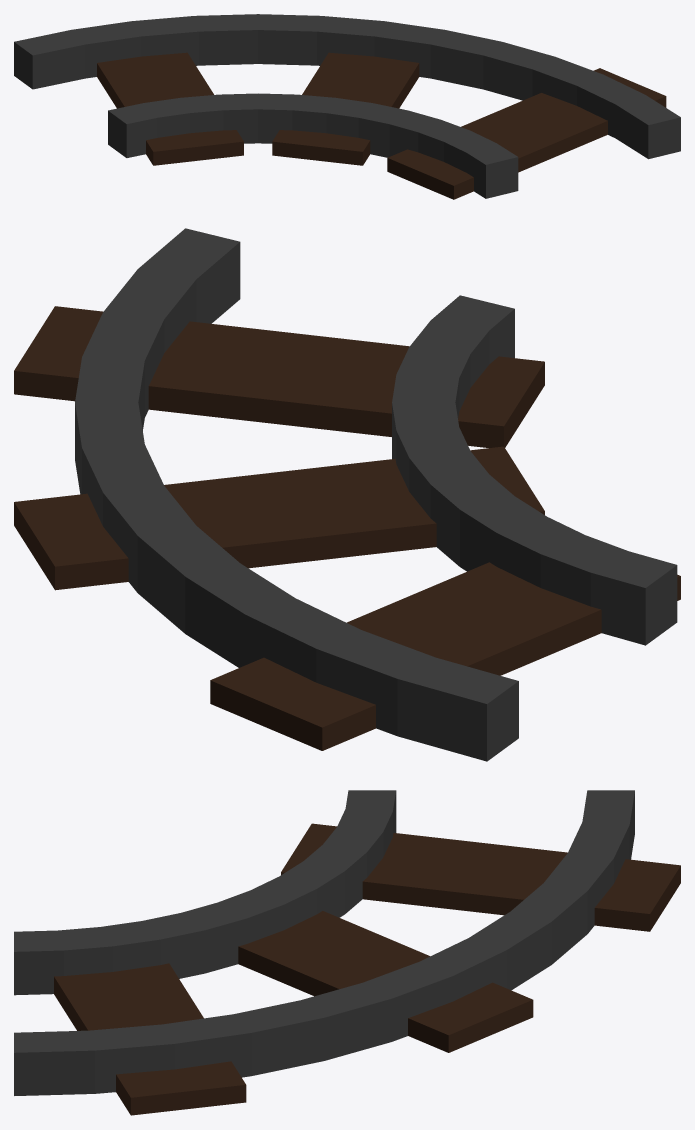
File: Cave_Lair_Rail_Road_Track_Corner_Small_01.fbx
3 views of the same model, one above another, from view 1: azimuth 30°, elevation 25°; view 2: azimuth 150°, elevation 25°; view 3: azimuth 270°, elevation 25° (orthographic). The views are drawn at different scales.
Visible parts, largest first — view 1: Cave_Lair_Rail_Road_Track_Corner_Small_01; view 2: Cave_Lair_Rail_Road_Track_Corner_Small_01; view 3: Cave_Lair_Rail_Road_Track_Corner_Small_01.
Part boxes in pixels (x1,y1,x2,y2): Cave_Lair_Rail_Road_Track_Corner_Small_01: (14,14,680,199); Cave_Lair_Rail_Road_Track_Corner_Small_01: (14,228,680,761); Cave_Lair_Rail_Road_Track_Corner_Small_01: (14,790,680,1115).
Size of the model in its own units: 1.4 by 0.1 by 1.4.
